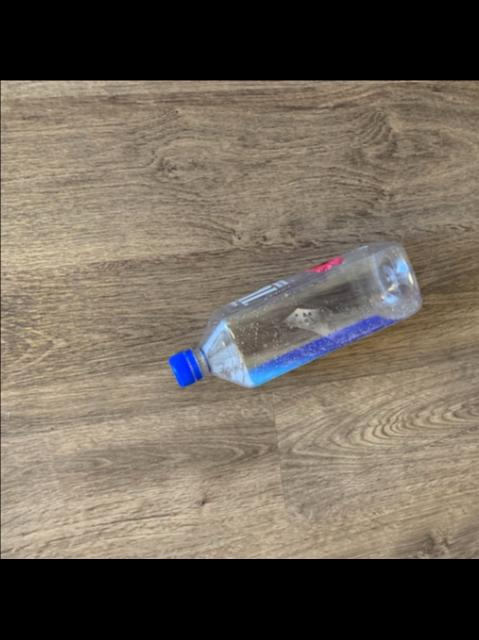plastic: (166, 242, 418, 385)
